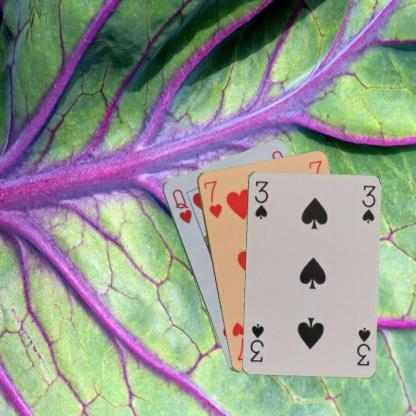3s: (353, 325, 372, 367), (252, 178, 270, 220)
7h: (201, 178, 223, 220)
Qh: (169, 186, 193, 225)
